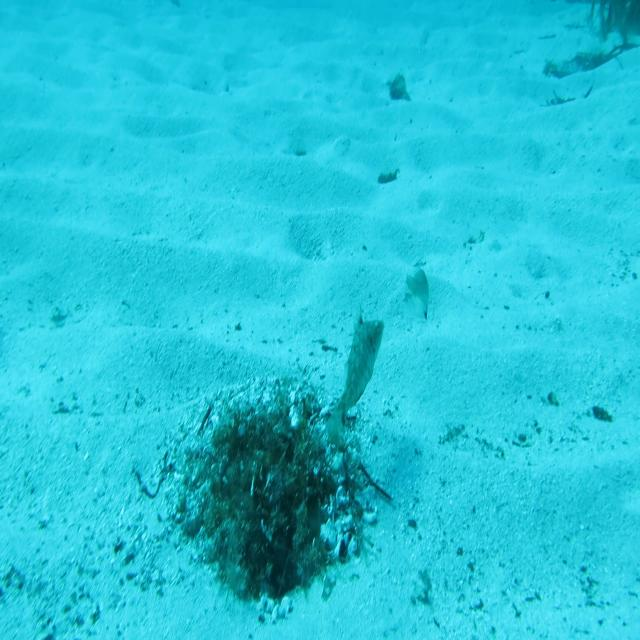MAF: (319, 309, 387, 455)
core_nest: (240, 425, 290, 463)
female: (402, 259, 433, 329)
nest: (154, 356, 381, 632)
vegetation: (378, 167, 400, 185)
